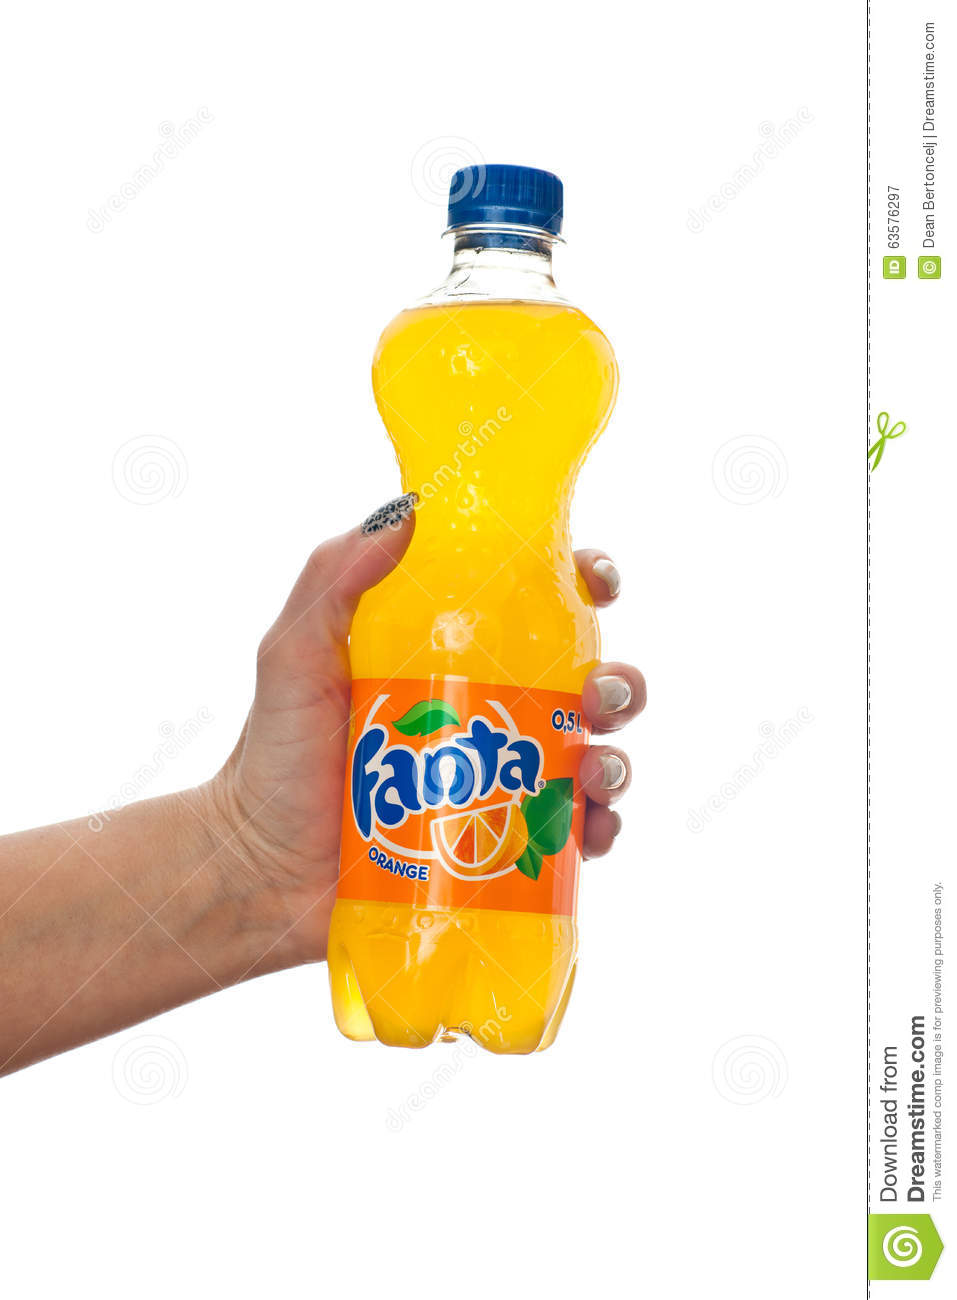fanta: (355, 202, 584, 1030)
